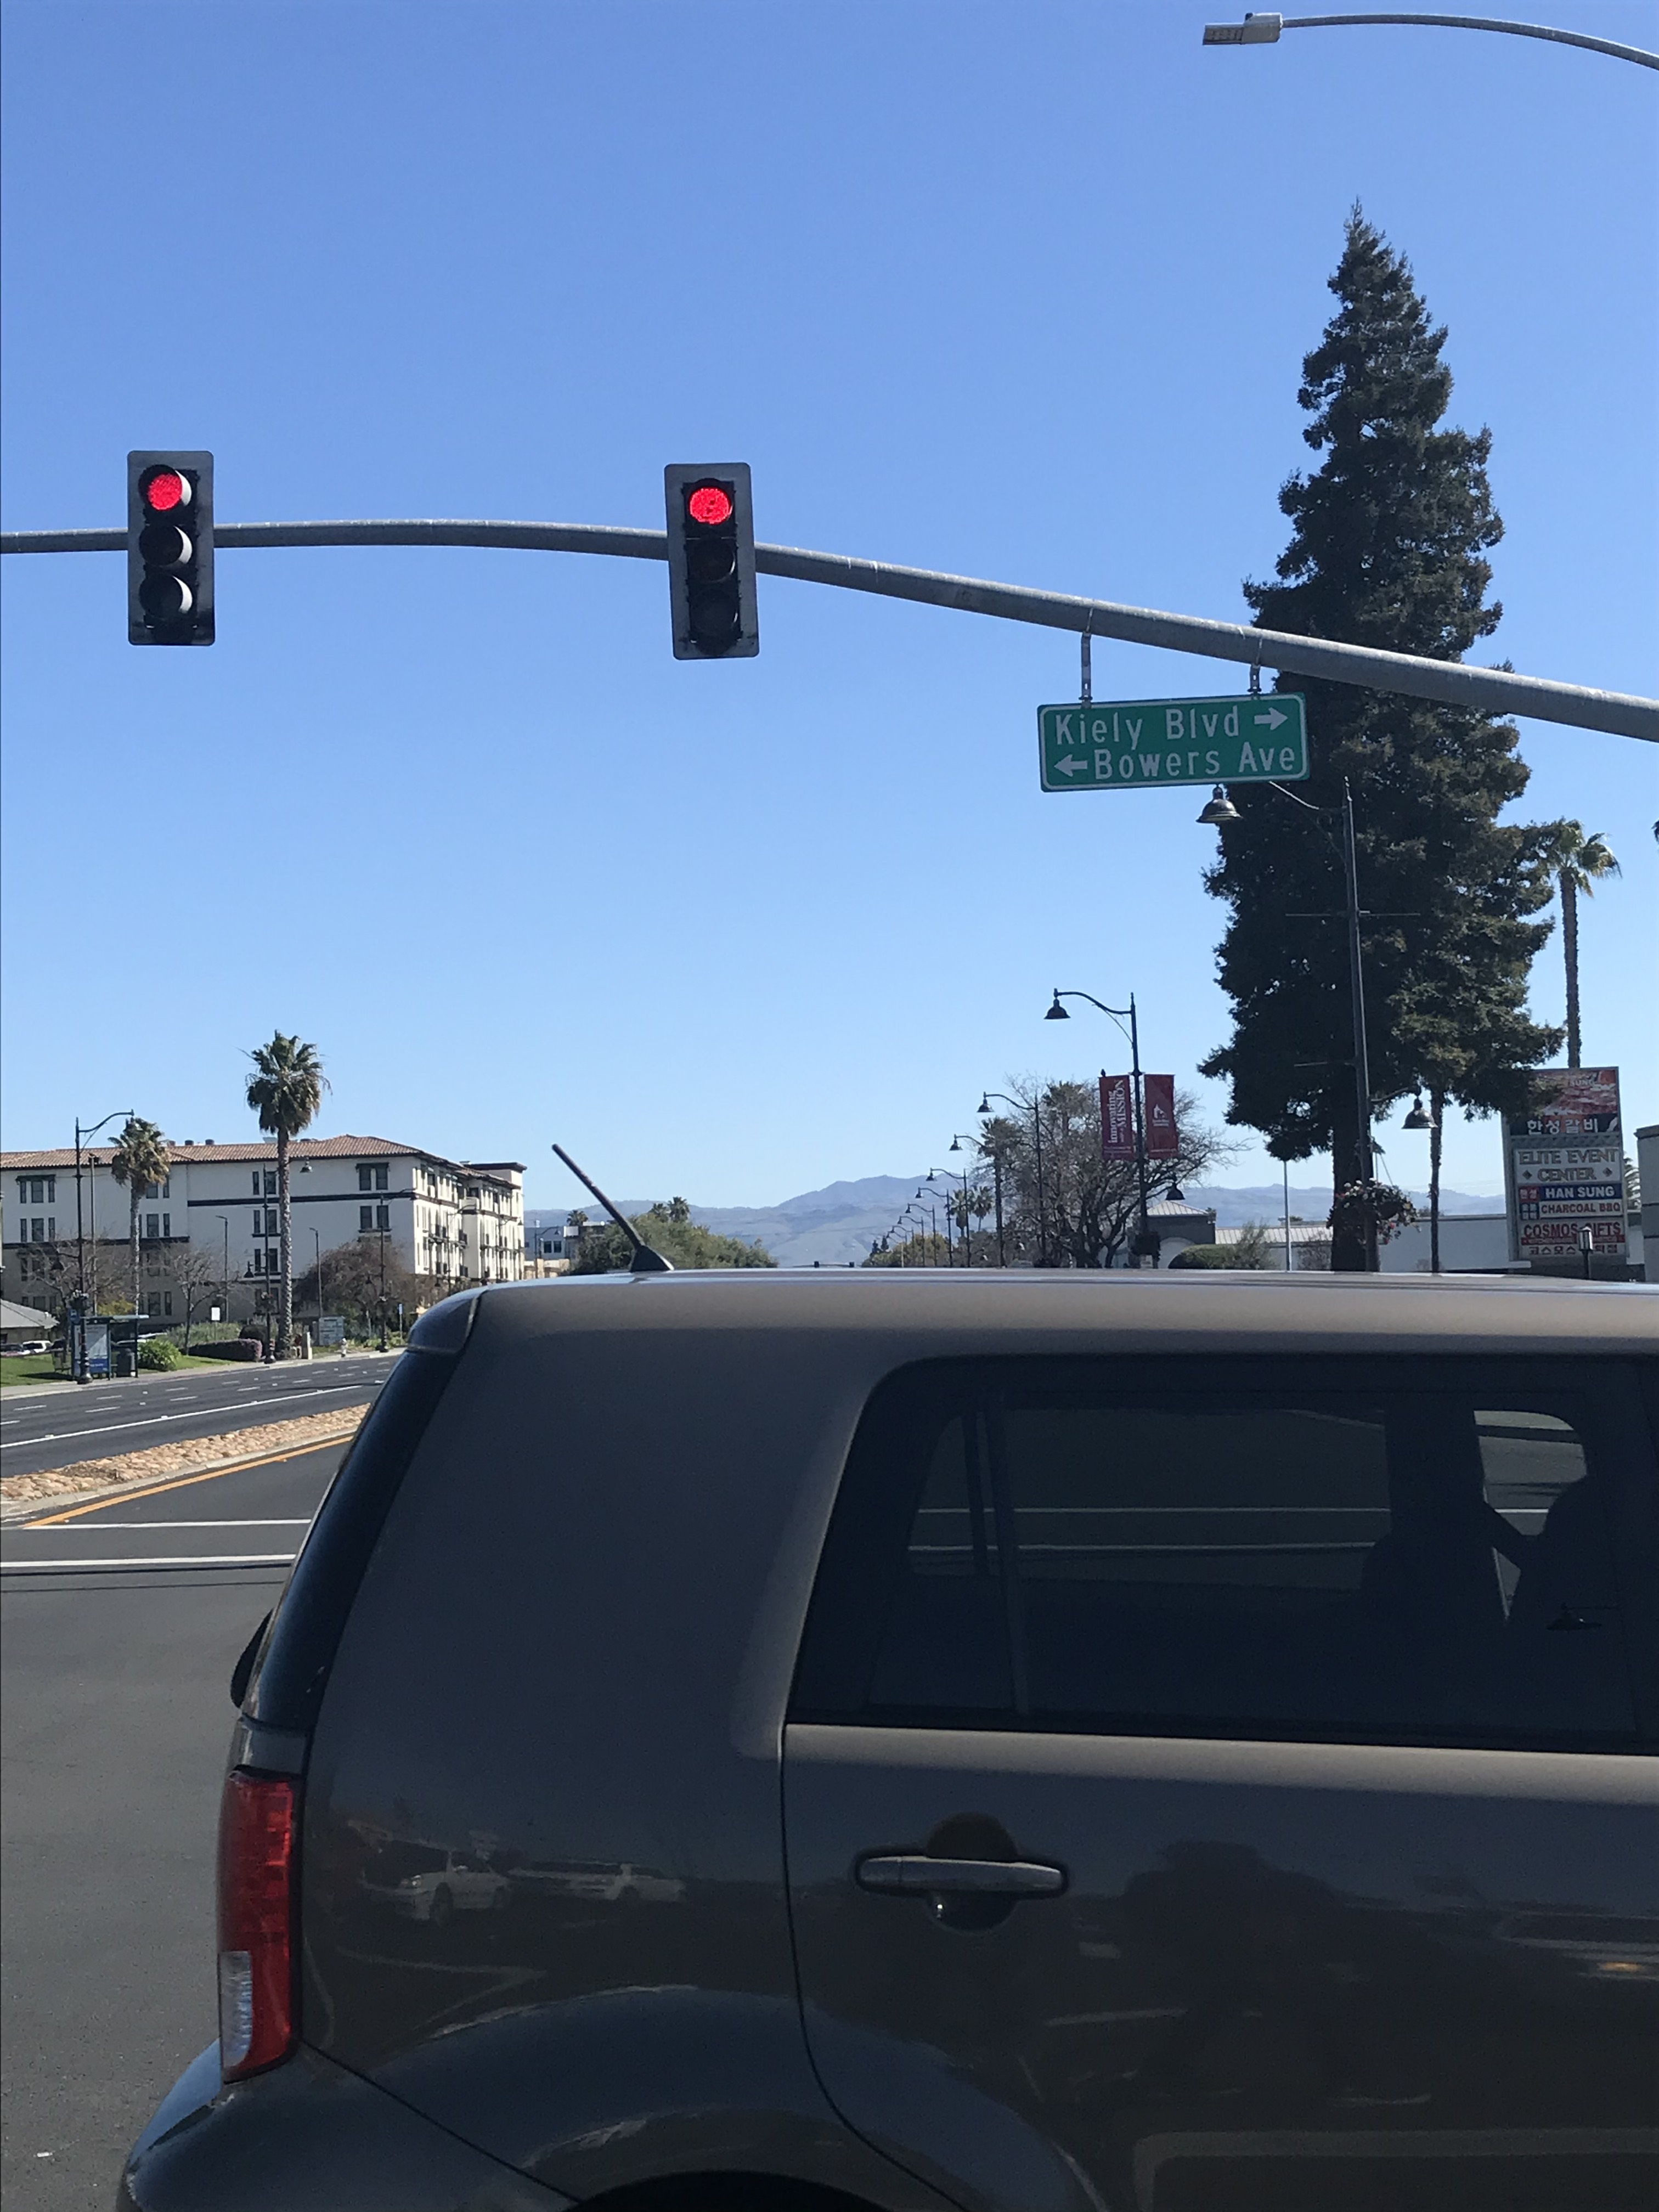red_light: (132, 451, 213, 643), (671, 467, 748, 665)
